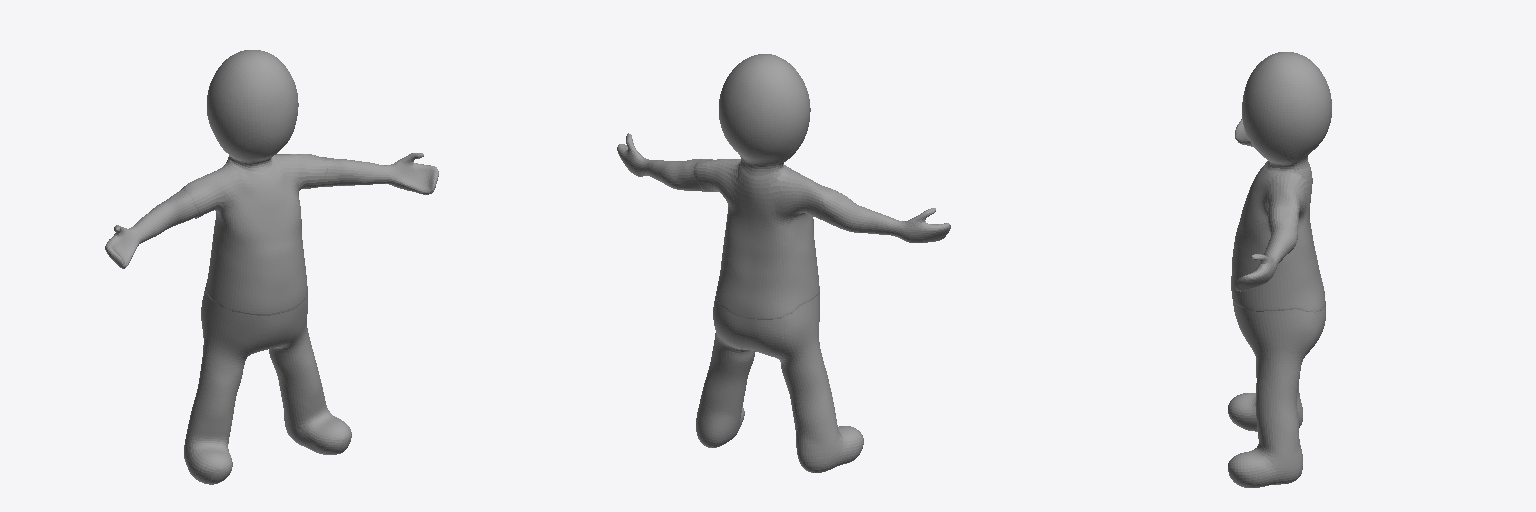
Rendered from Stick_Figure_by_Swp_full.OBJ.
3 renders of one model, left to right at view 1: azimuth 30°, elevation 25°; view 2: azimuth 150°, elevation 25°; view 3: azimuth 270°, elevation 25°, orthographic.
Size of the model in its own units: 4.19 by 4.86 by 1.15.